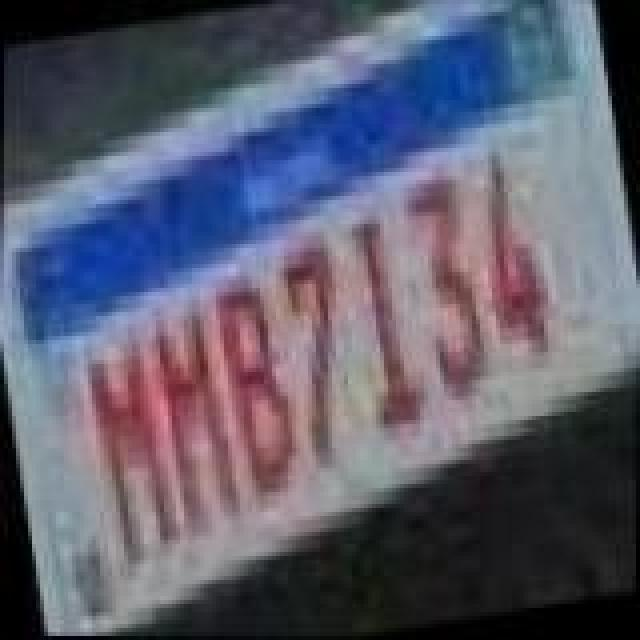3: (390, 170, 506, 414)
4: (462, 138, 566, 378)
7: (268, 238, 372, 478)
B: (202, 266, 314, 518)
I: (334, 208, 434, 448)
M: (76, 326, 192, 578), (136, 298, 252, 542)
